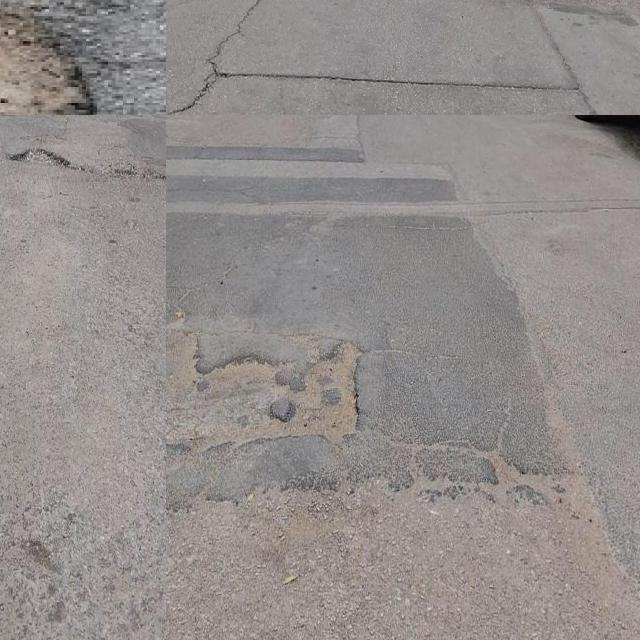Pothole: (166, 333, 357, 450), (0, 9, 95, 115), (10, 147, 71, 168)
